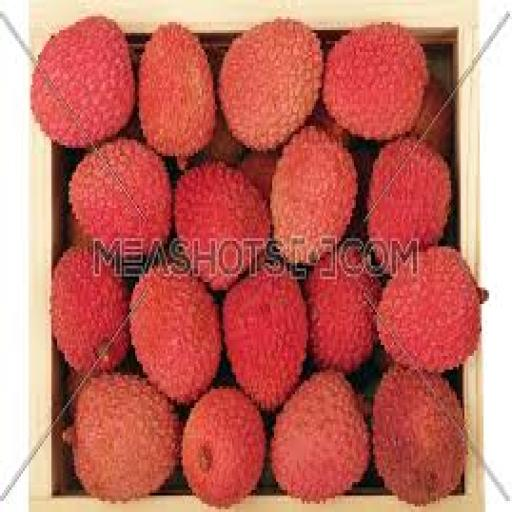lychee: (268, 364, 372, 507), (25, 8, 135, 142), (64, 381, 182, 501), (375, 246, 487, 372), (217, 19, 324, 148), (373, 370, 470, 506), (268, 123, 358, 266), (131, 263, 219, 405), (324, 22, 428, 142), (67, 148, 173, 257), (366, 142, 451, 276), (173, 170, 272, 285), (50, 252, 130, 389), (141, 22, 213, 170), (225, 279, 308, 405), (184, 397, 266, 509), (308, 247, 379, 375), (128, 6, 135, 19)
